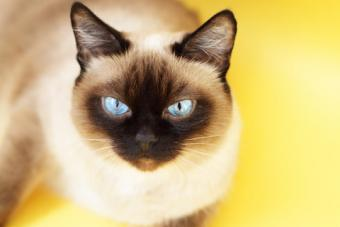siamese: (66, 1, 242, 175)
